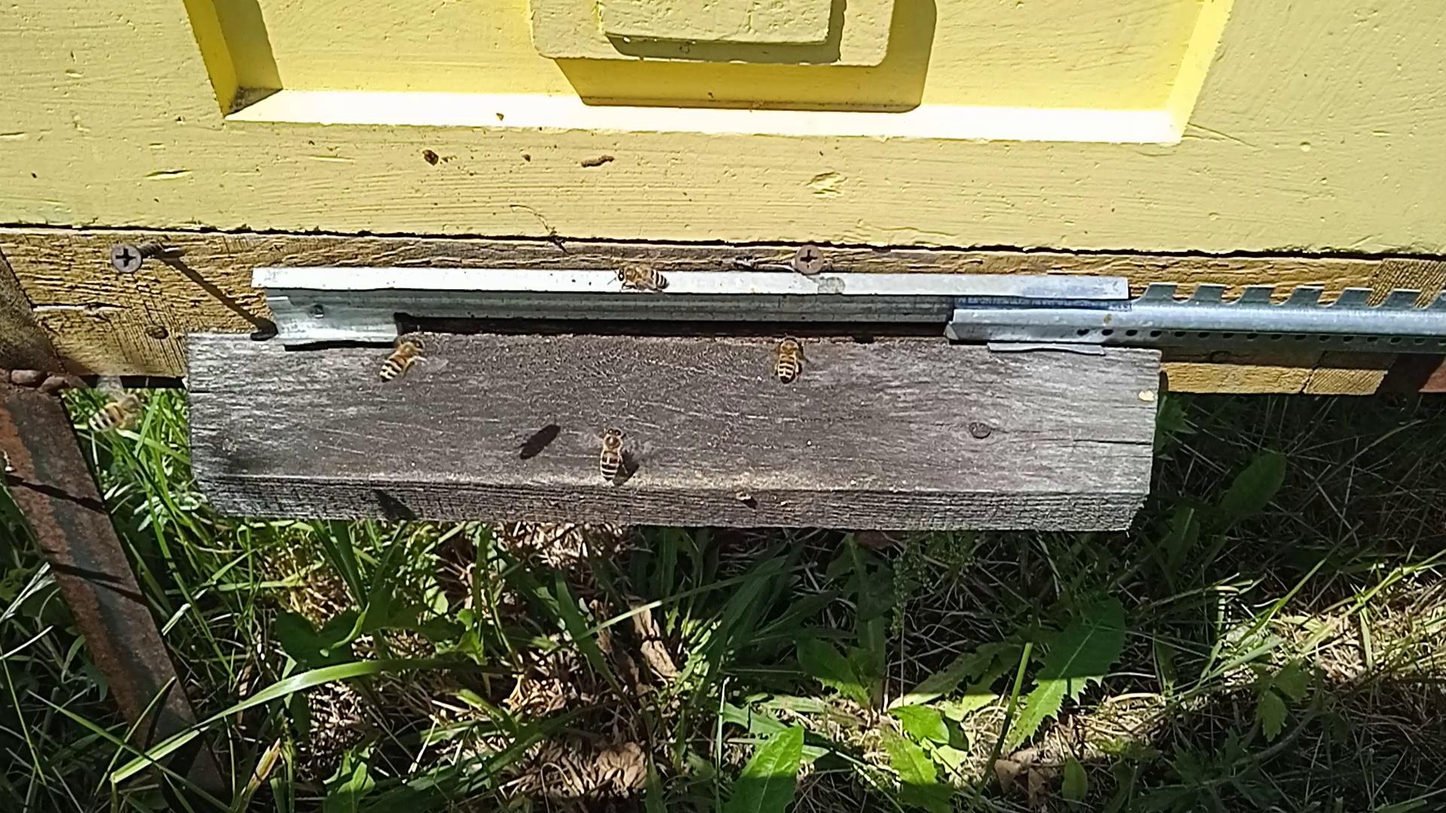worker-bee: (378, 333, 428, 382), (89, 392, 147, 431), (597, 425, 627, 483), (772, 333, 805, 384), (615, 263, 668, 294)
